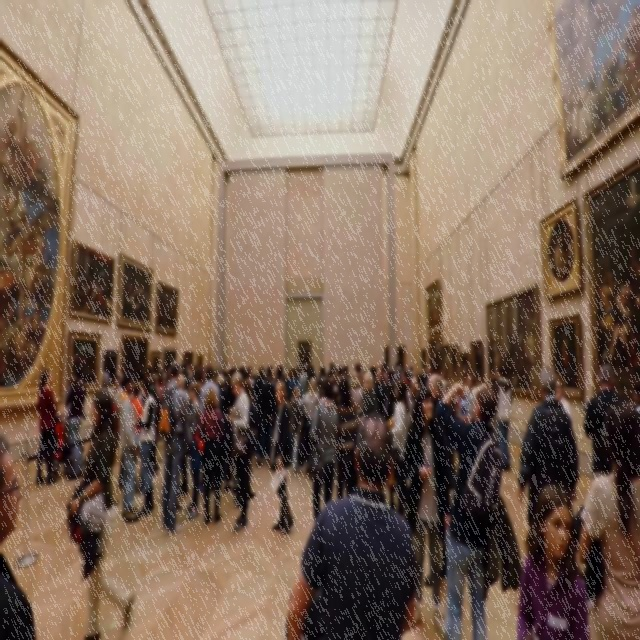pessoa: (544, 0, 639, 395), (277, 407, 421, 640), (61, 386, 138, 640), (435, 373, 505, 640), (0, 86, 58, 391), (574, 396, 639, 639), (400, 383, 452, 640), (516, 480, 594, 640), (518, 364, 580, 555), (66, 246, 152, 380), (422, 373, 458, 588), (0, 436, 33, 640), (156, 357, 192, 538), (484, 286, 534, 390), (582, 362, 622, 480), (223, 370, 251, 534), (308, 376, 338, 524), (128, 375, 158, 521), (270, 378, 296, 537), (197, 387, 226, 525), (116, 370, 140, 524), (334, 373, 360, 500), (387, 377, 410, 518), (232, 378, 255, 508), (198, 362, 220, 494), (427, 338, 485, 388), (64, 364, 87, 482), (36, 368, 58, 486), (282, 361, 352, 396), (492, 362, 514, 473), (380, 362, 428, 409), (186, 380, 202, 520), (223, 366, 238, 494), (252, 366, 270, 468), (385, 378, 398, 510), (176, 374, 190, 496), (130, 381, 144, 497), (151, 365, 170, 447), (286, 366, 302, 457), (290, 384, 304, 476), (356, 371, 379, 424), (66, 366, 86, 425), (110, 374, 124, 454), (156, 286, 178, 334), (302, 377, 320, 431), (425, 277, 442, 333), (555, 378, 573, 430), (349, 370, 364, 426), (373, 368, 388, 417), (464, 372, 478, 421), (179, 363, 206, 387), (355, 362, 367, 405), (490, 390, 500, 440), (212, 369, 229, 392), (237, 364, 259, 381), (297, 339, 313, 362), (97, 370, 111, 394), (272, 364, 284, 392), (264, 363, 278, 386), (118, 449, 124, 492), (387, 471, 397, 493), (369, 364, 377, 386), (186, 386, 190, 414), (250, 380, 254, 406), (268, 362, 272, 370)
